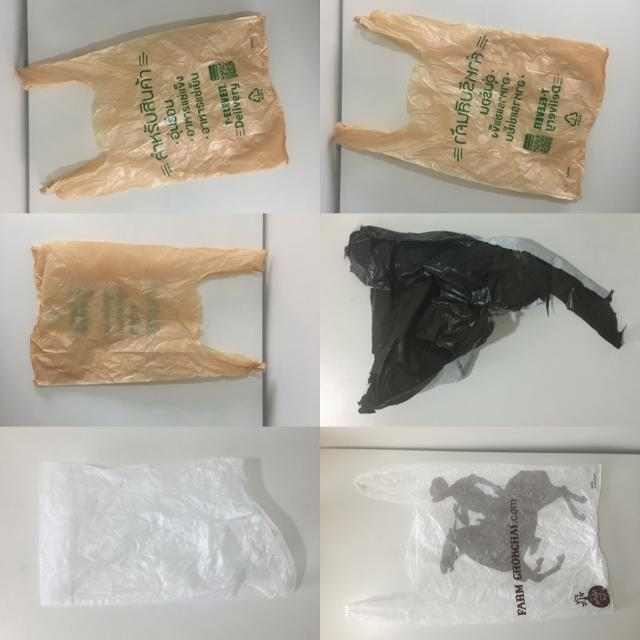Single-layer Plastic: (332, 10, 608, 199), (345, 226, 622, 412), (18, 16, 289, 199), (347, 464, 610, 625), (39, 458, 295, 606), (30, 241, 266, 386)
